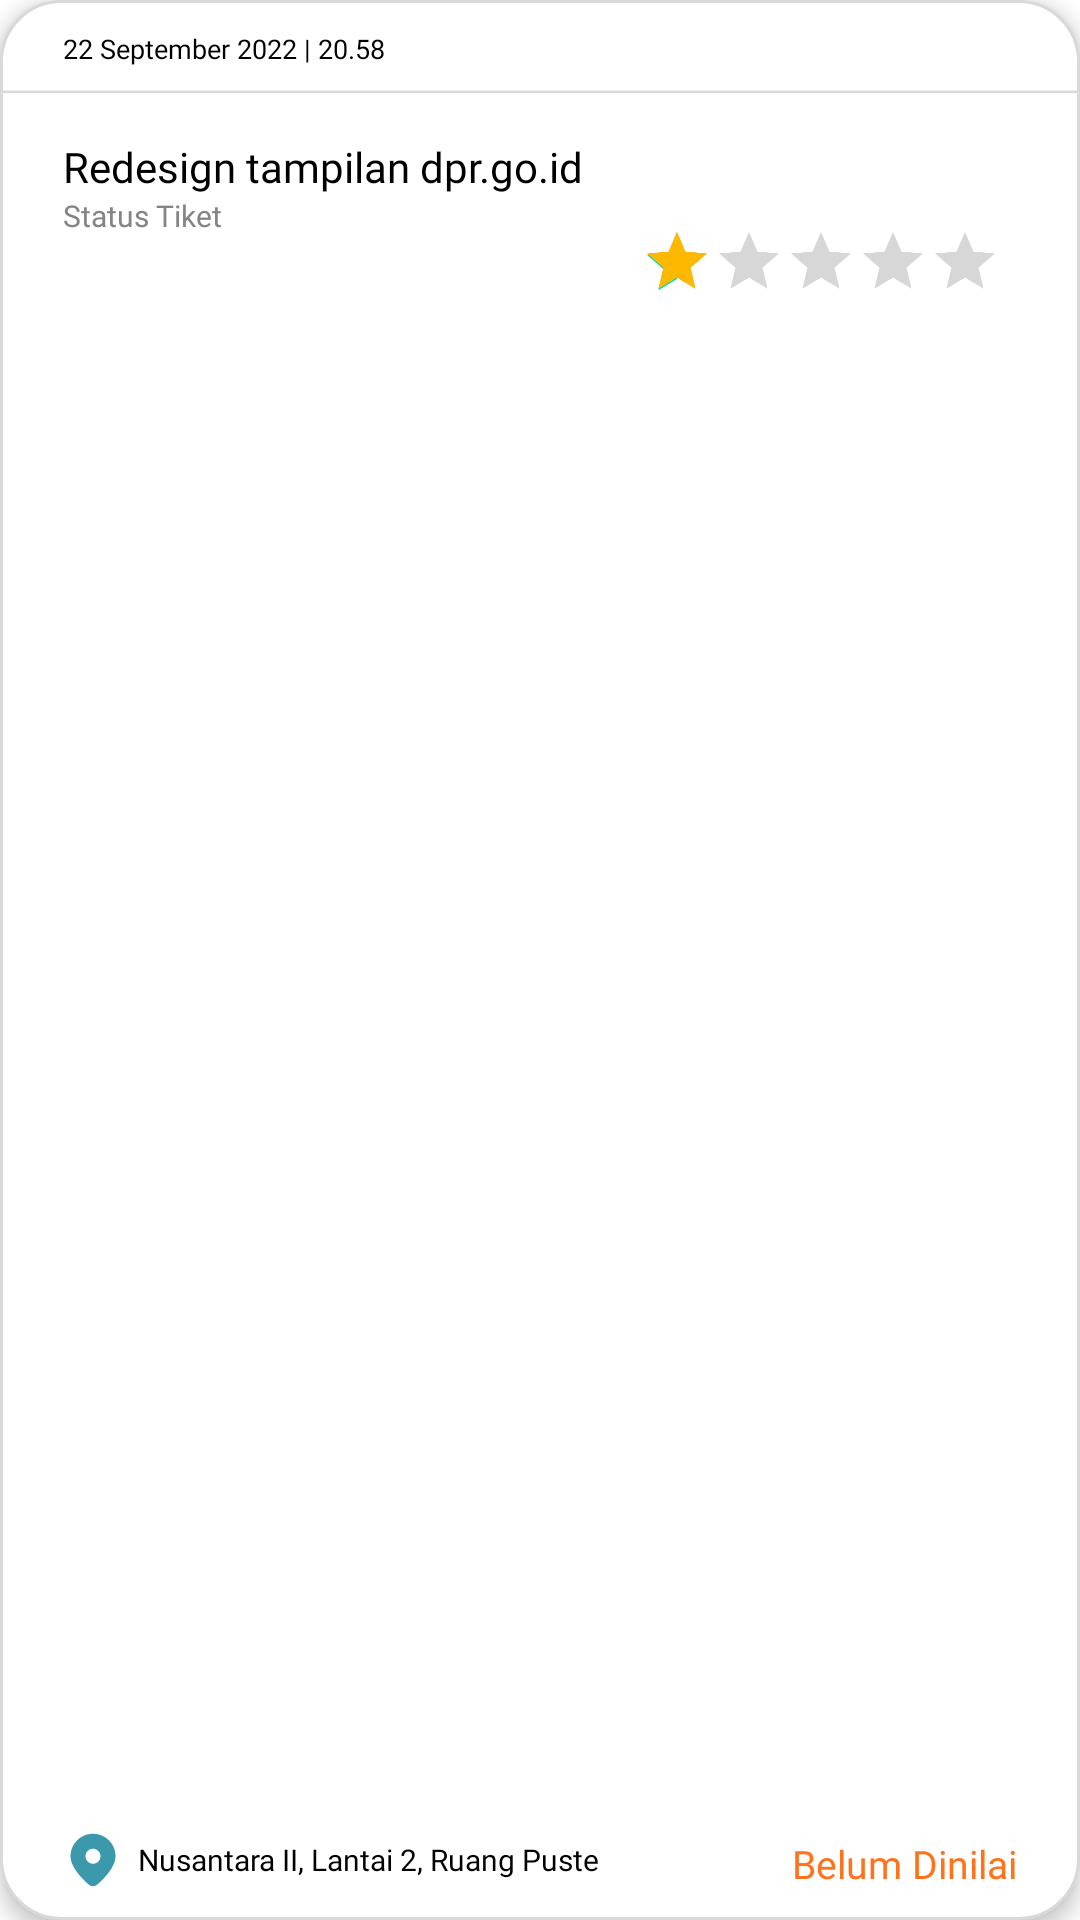

Icon click points for this 1080×1920 phone screenshot, format point (x, y):
location: point (93, 1860)
